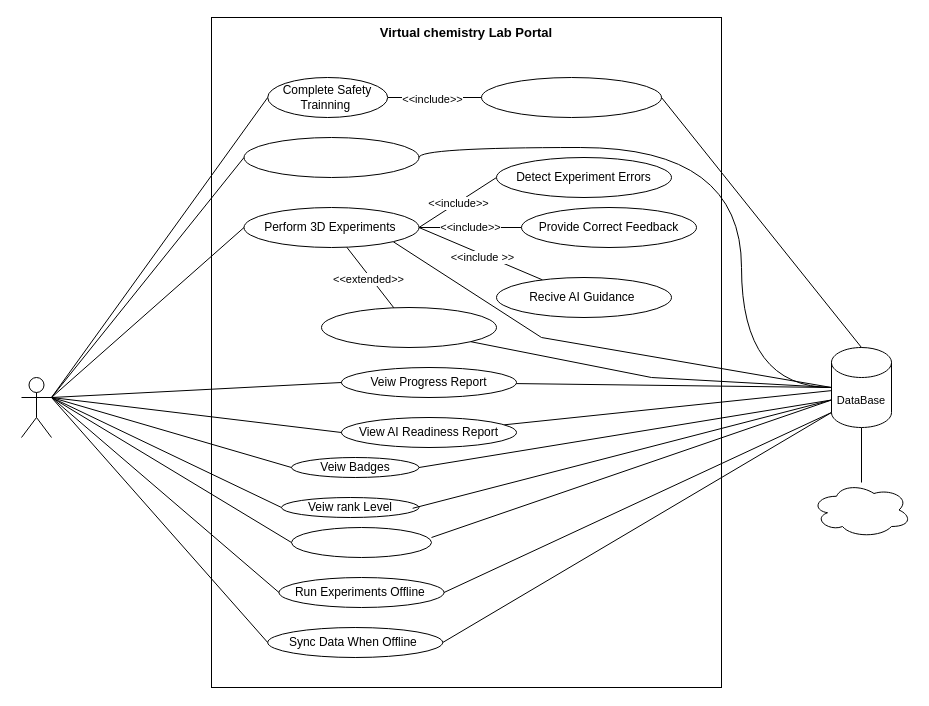
Image size: 929x706. Some labels were removed from this diagram. The shapes that lost their labels are listed below. From the top down, each one's box as (x1, y1, x2, y2) in pixels, then its label:
(480, 76, 662, 118): Take safety Certificate Test
(243, 136, 419, 178): Access Experiments LIbrary
(320, 306, 496, 348): Perform AR Experiments
(20, 376, 52, 438): Student
(810, 482, 912, 538): Cloud
(290, 526, 432, 558): Veiw Leader Board
